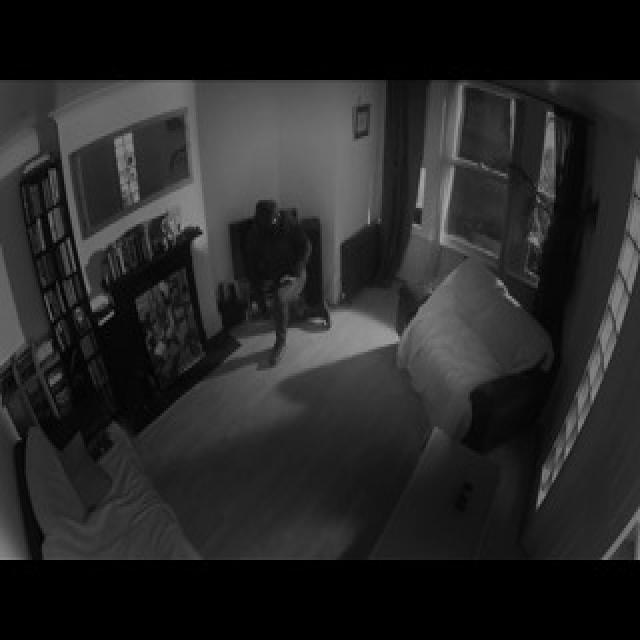thief: (230, 170, 319, 325)
